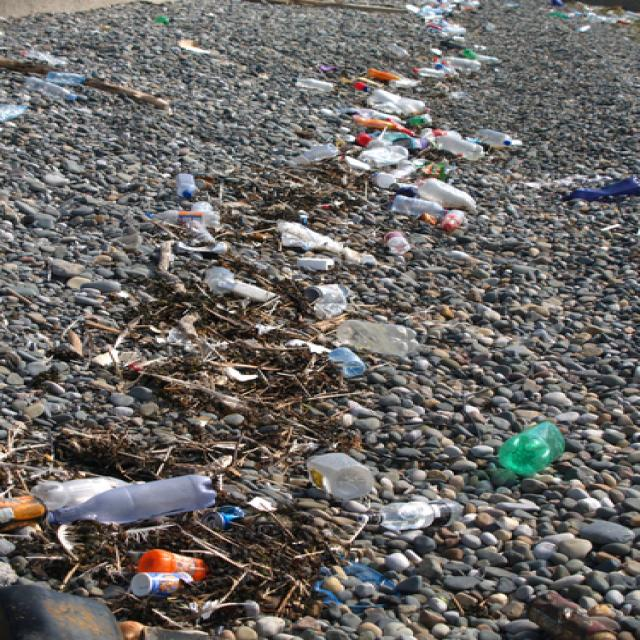garbage: (1, 256, 448, 640), (283, 16, 535, 219)
